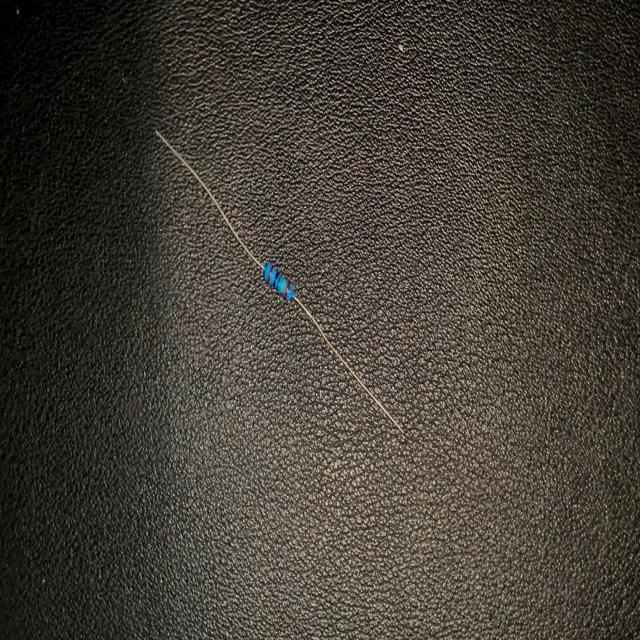resistor: (153, 129, 407, 435)
